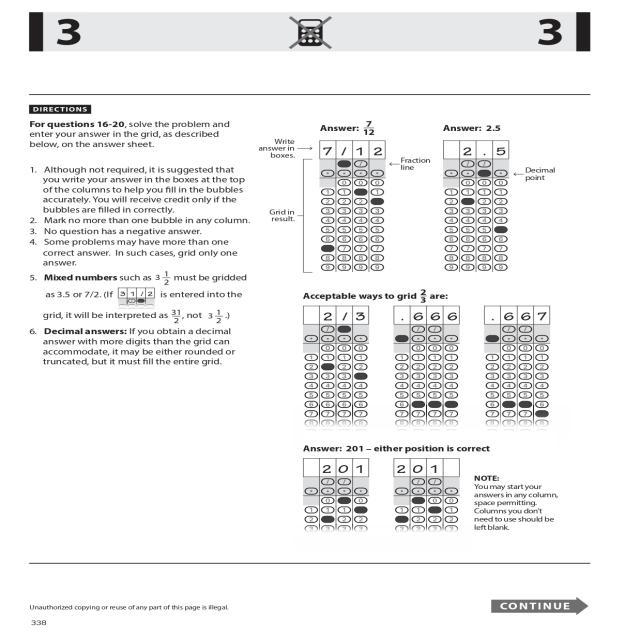Instruction: (24, 99, 588, 550)
Question_Paper_Area: (24, 99, 588, 550)
